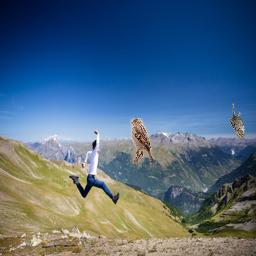Sparrow: (130, 118, 154, 164), (229, 104, 245, 139)
